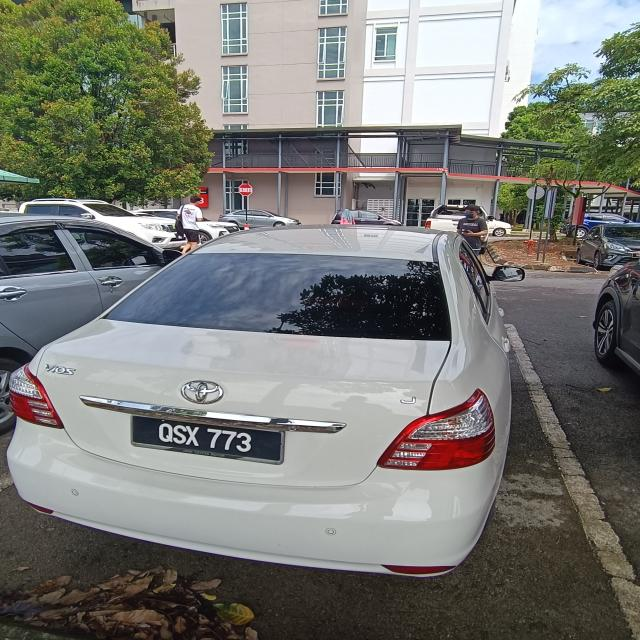ToyotaVios: (4, 222, 525, 578)
